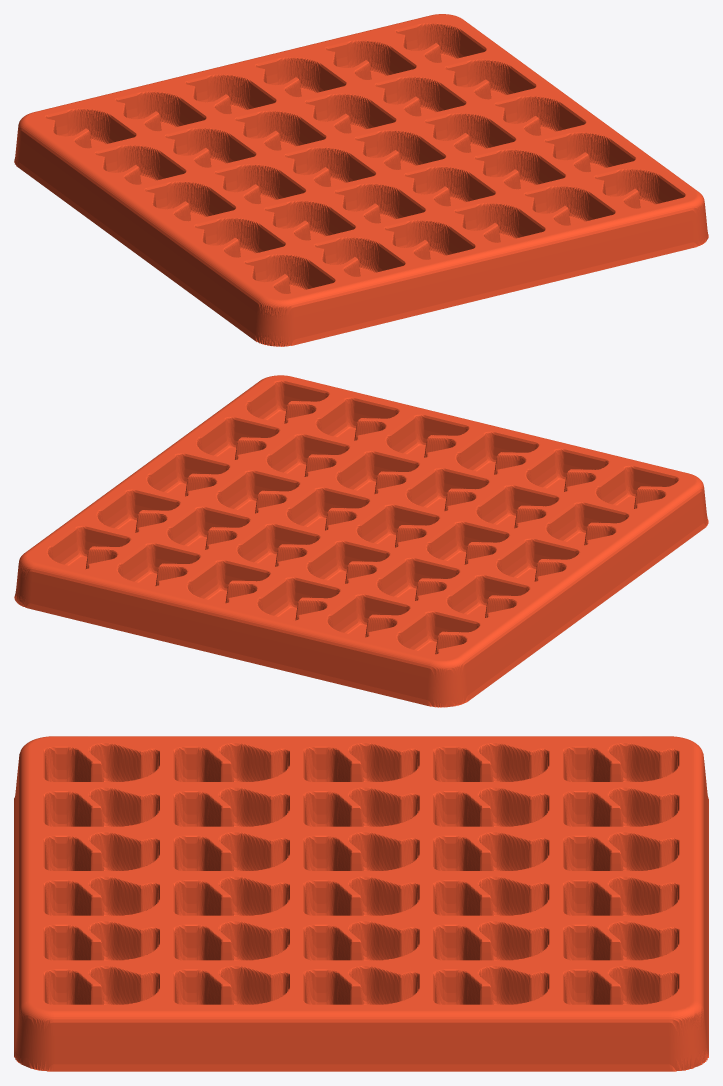
File: mold.glb
3 renders of one model, top to bottom at view 1: azimuth 30°, elevation 25°; view 2: azimuth 150°, elevation 25°; view 3: azimuth 270°, elevation 25°, orthographic. The views are drawn at different scales.
Visible parts, largest first — view 1: geometry_0; view 2: geometry_0; view 3: geometry_0.
Boxes of the visible parts, box(x1,y1,x2,y2) form: geometry_0: box(14, 14, 708, 346); geometry_0: box(14, 375, 708, 707); geometry_0: box(14, 736, 708, 1071).
Bounding box in the file's own units: 0.1545 × 0.0136 × 0.1581.
